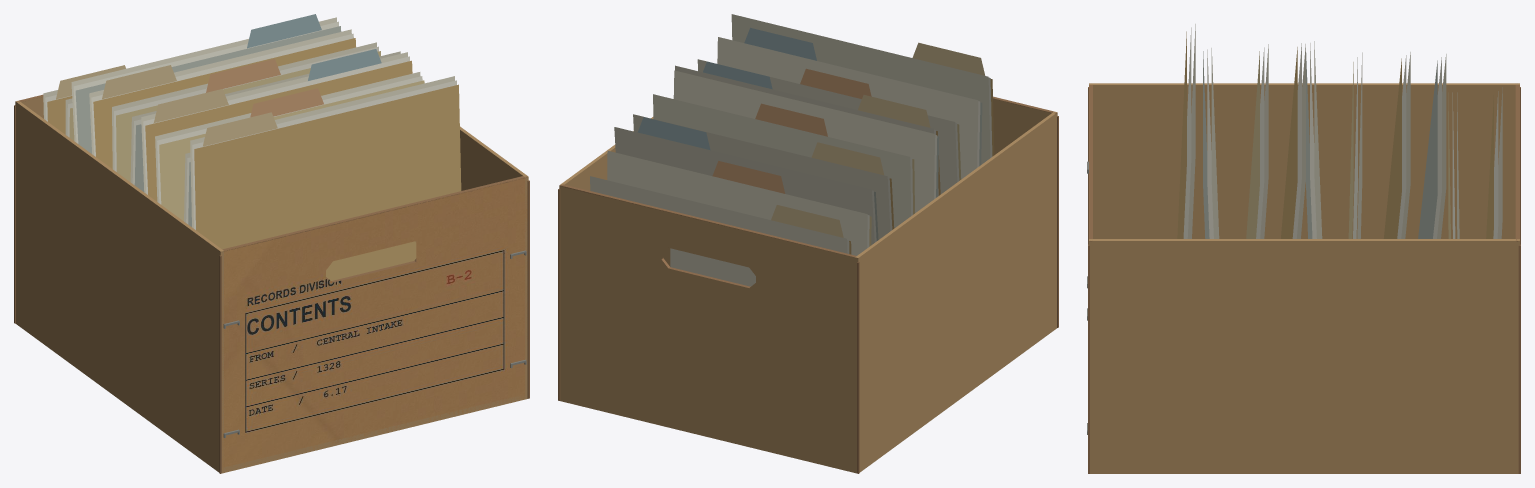
3 renders of one model, left to right at view 1: azimuth 30°, elevation 25°; view 2: azimuth 150°, elevation 25°; view 3: azimuth 270°, elevation 25°, orthographic. The views are drawn at different scales.
Visible parts, largest first — view 1: TransferCaseB; view 2: TransferCaseB; view 3: TransferCaseB.
Part boxes in pixels (x1,y1,x2,y2): TransferCaseB: (14,14,529,473); TransferCaseB: (558,14,1058,473); TransferCaseB: (1087,24,1520,473).
Bounding box in the file's own units: 0.35 × 0.3284 × 0.4048.
12 materials, 1 textured.
